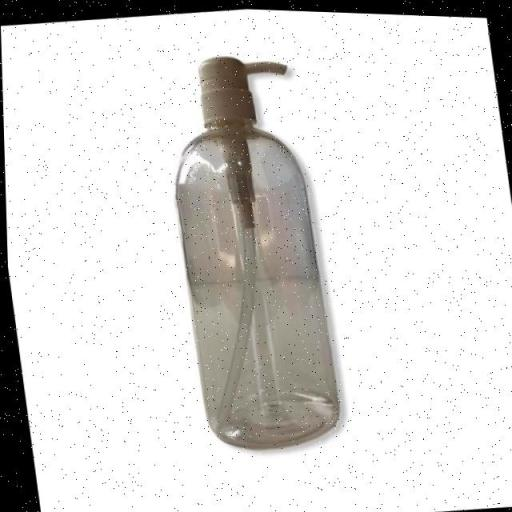plastic: (139, 36, 366, 472)
